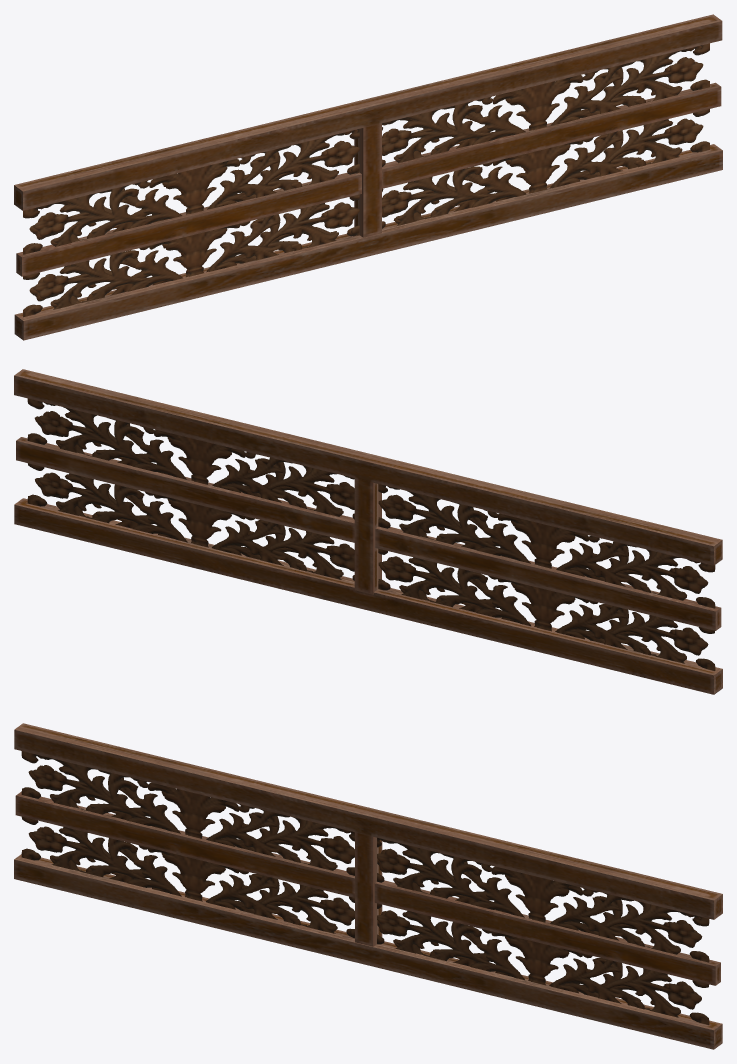
File: WoodenDecor_Y.fbx
The picture shows the model from 3 angles, top to bottom: view 1: azimuth 30°, elevation 25°; view 2: azimuth 150°, elevation 25°; view 3: azimuth 330°, elevation 25°; orthographic projection.
Parts seen in each view (by area): view 1: WoodenDecor Y; view 2: WoodenDecor Y; view 3: WoodenDecor Y.
Boxes of the visible parts, <box> form: WoodenDecor Y: <box>14,14,722,340</box>; WoodenDecor Y: <box>14,369,722,694</box>; WoodenDecor Y: <box>14,723,722,1049</box>.
Bounding box in the file's own units: 520 × 106 × 12.02.
